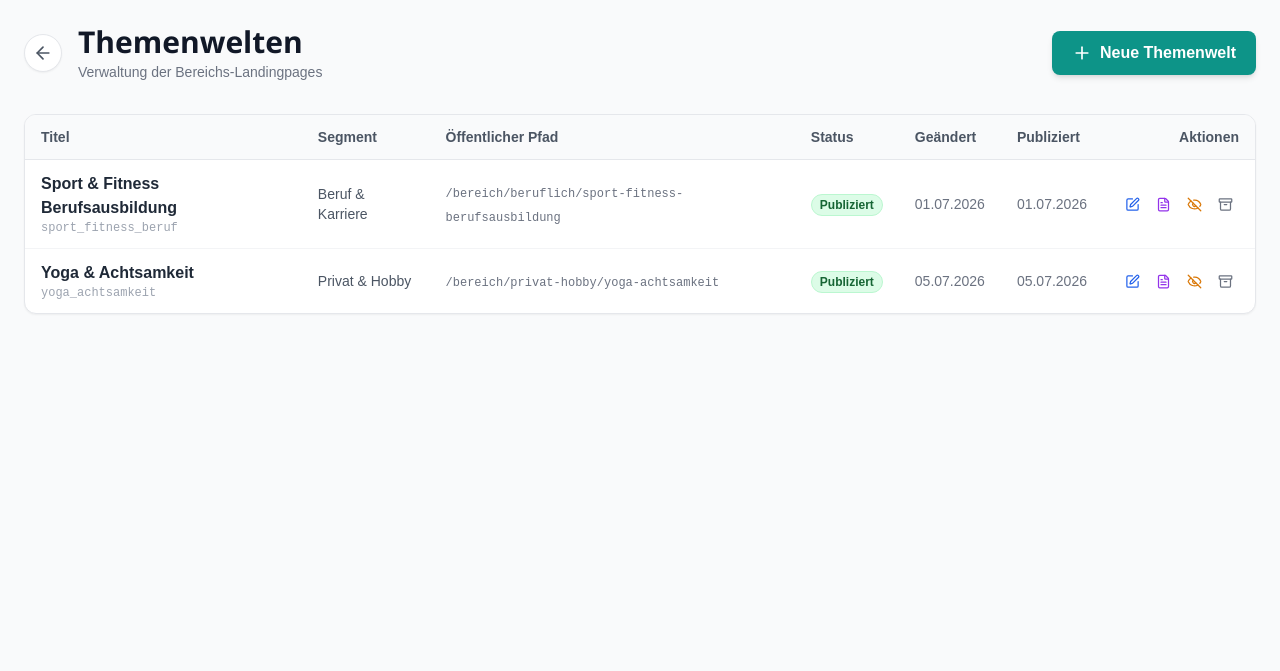
Test: Integration: Yoga → Neue Themenwelt › Create-Formular ist leer nach Yoga-Edit — kein Sport-Wert
Expected: the text "Yoga & Achtsamkeit" is shown, [41,264,194,281]
# Yoga bearbeiten
Click the button titled "Bearbeiten" in the row of "Yoga & Achtsamkeit" at (1132, 281), box [1119,268,1146,294]
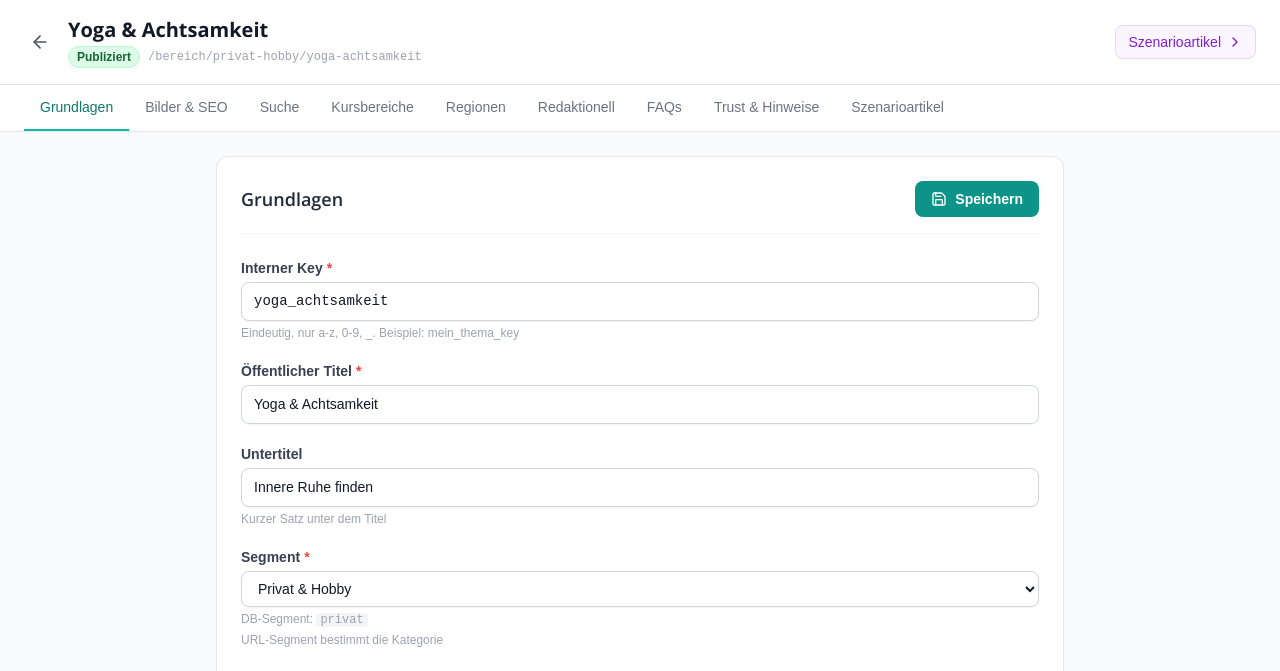
Expected: the dropdown shows "Privat & Hobby", [241,571,1039,607]
# Zurück zur Liste (ArrowLeft)
Click the button titled "Zurück zur Übersicht" at (40, 42), box [24,26,56,58]
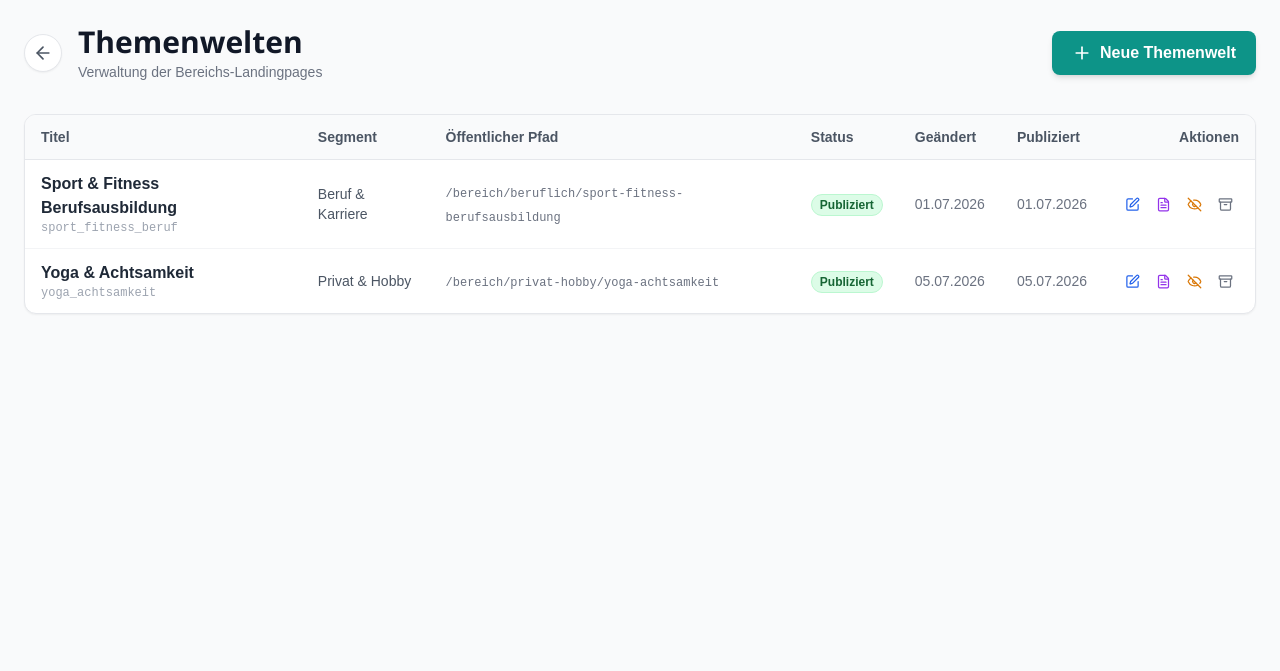
Expected: the text "Yoga & Achtsamkeit" is shown, [41,264,194,281]
# Neue Themenwelt
Click the button "Neue Themenwelt" at (1154, 53), box [1052,31,1256,75]
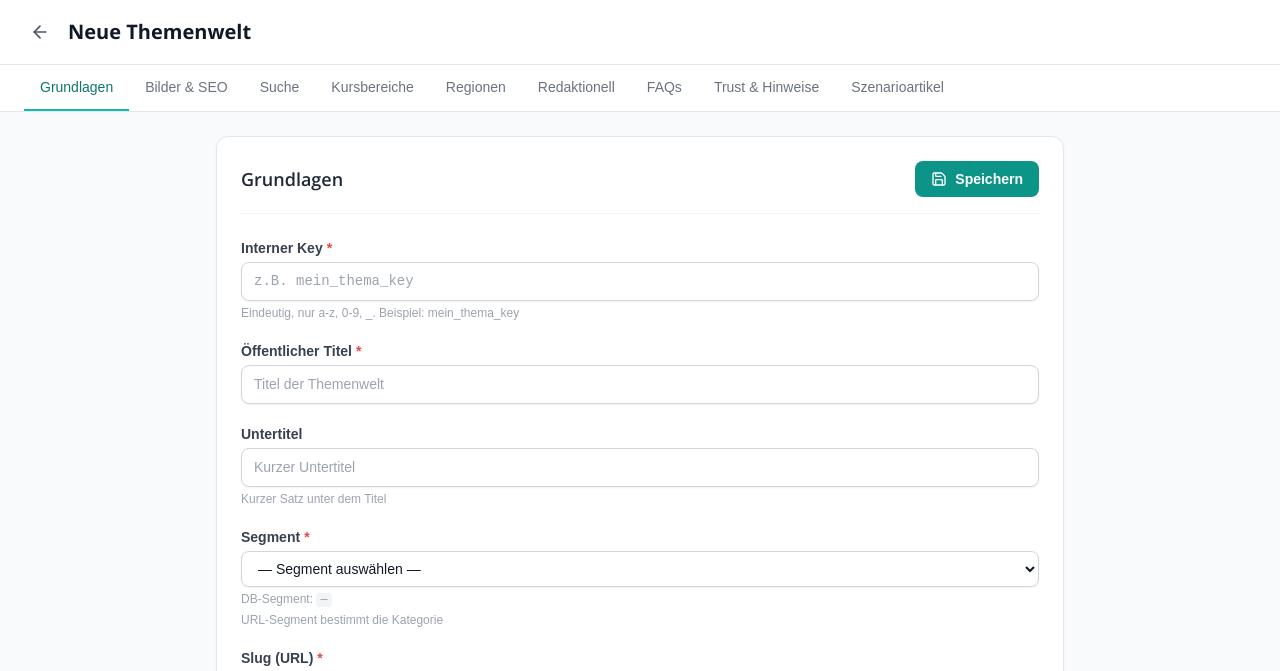
Expected: the dropdown shows "— Segment auswählen —", [241,551,1039,587]
